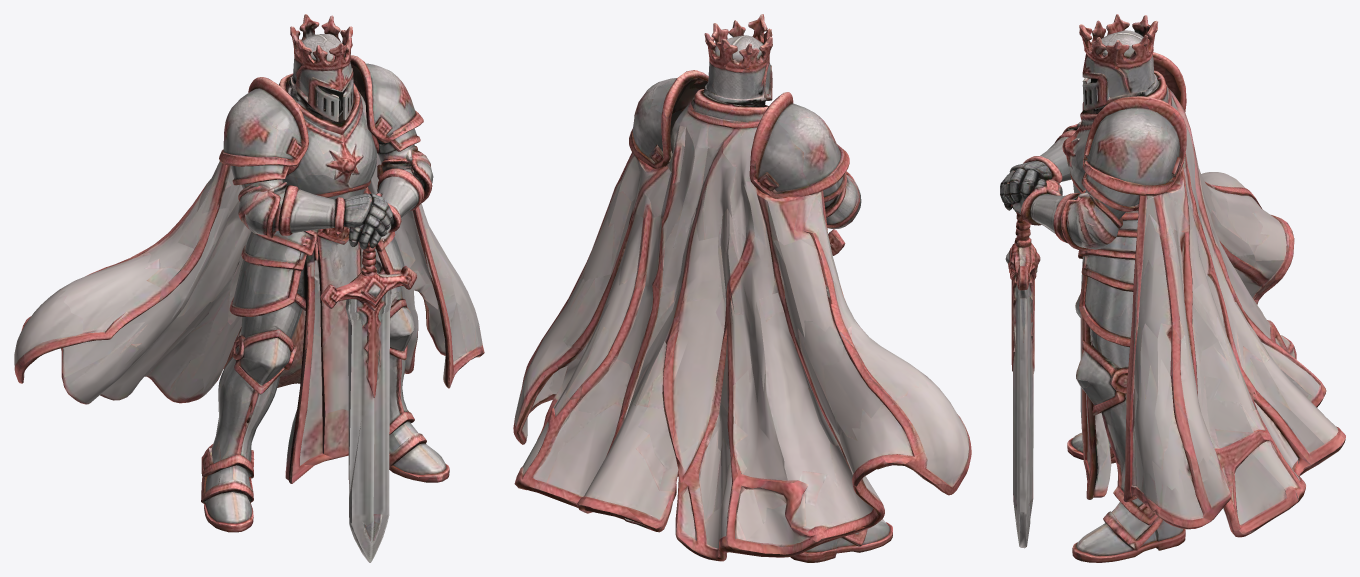
File: warlord_white.glb
3 renders of one model, left to right at view 1: azimuth 30°, elevation 25°; view 2: azimuth 150°, elevation 25°; view 3: azimuth 270°, elevation 25°, orthographic. The views are drawn at different scales.
Bounding box in the file's own units: 1.75 × 1.9 × 1.13.
1 material, 1 textured.
